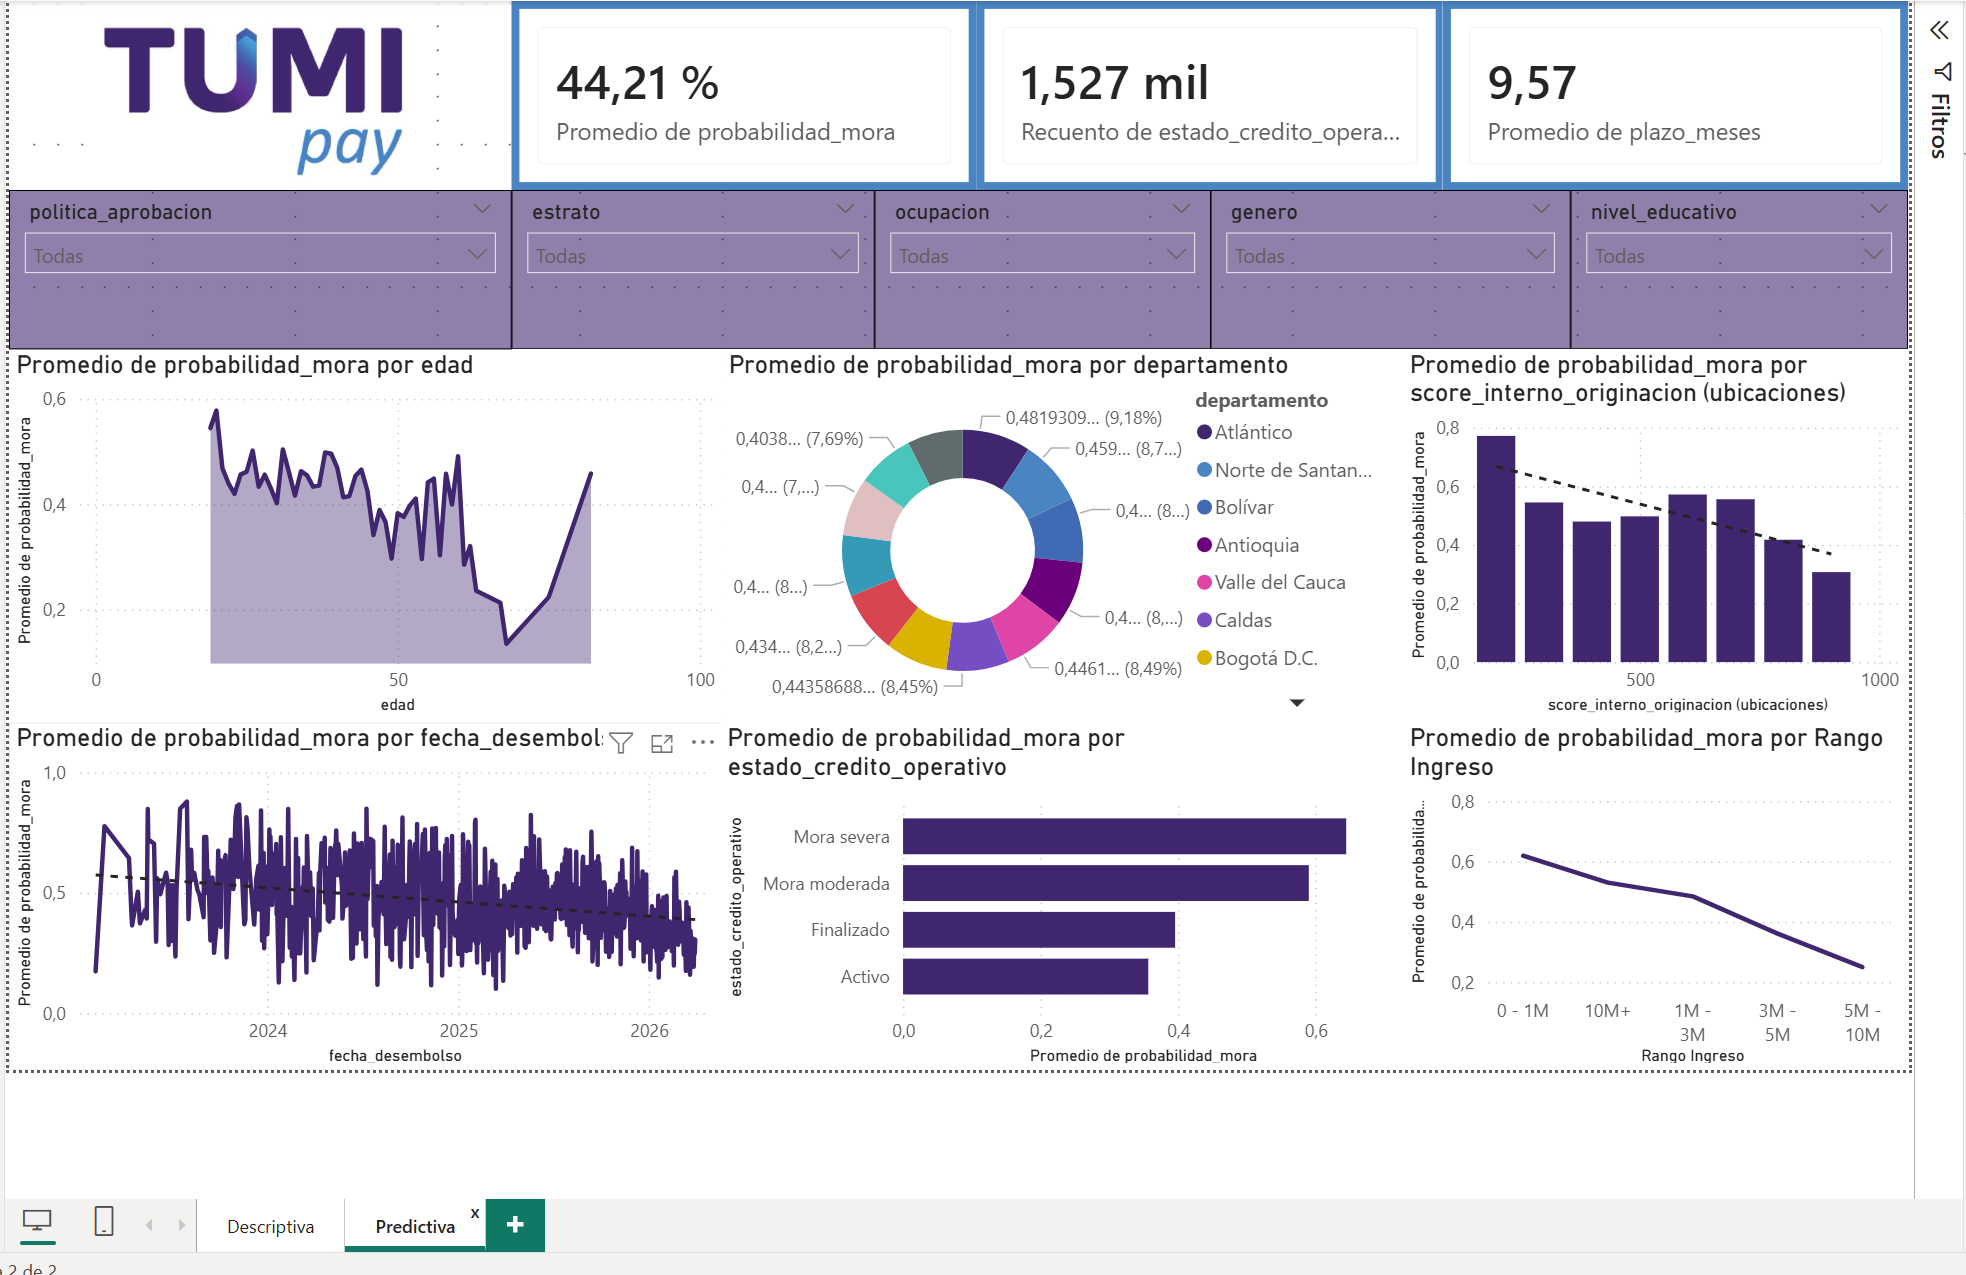

Layout of this report page (visuals, bound fields, positions):
{"tool":"powerbi","page":{"name":"Predictiva","canvas":[1280,720],"ordinal":1},"visuals":[{"type":"image","box":[0,0,338.5,127.3],"z":0},{"type":"cardVisual","fields":{"Data":["CountNonNull(predicciones_riesgo.estado_credito_operativo)"]},"box":[651.8,0,314.3,127.3],"z":1000},{"type":"cardVisual","fields":{"Data":["Avg(predicciones_riesgo.probabilidad_mora)"]},"box":[338.5,0,313.3,127.3],"z":2000},{"type":"cardVisual","fields":{"Data":["Avg(predicciones_riesgo.plazo_meses)"]},"box":[966.1,0,313.3,127.3],"z":3000},{"type":"slicer","fields":{"Values":["predicciones_riesgo.estrato"]},"box":[338.5,127.3,244.5,107.1],"z":4000},{"type":"slicer","fields":{"Values":["predicciones_riesgo.ocupacion"]},"box":[583.1,127.3,226.4,107.1],"z":5000},{"type":"slicer","fields":{"Values":["predicciones_riesgo.genero"]},"box":[809.4,127.3,242.5,107.1],"z":6000},{"type":"slicer","fields":{"Values":["predicciones_riesgo.nivel_educativo"]},"box":[1052,127.3,227.4,107.1],"z":7000},{"type":"stackedAreaChart","fields":{"Category":["predicciones_riesgo.edad"],"Y":["Avg(predicciones_riesgo.probabilidad_mora)"]},"box":[0,234.4,480,249.6],"z":8000},{"type":"donutChart","fields":{"Category":["predicciones_riesgo.departamento"],"Y":["Avg(predicciones_riesgo.probabilidad_mora)"]},"box":[480,234.6,459.2,251.4],"z":9000},{"type":"clusteredColumnChart","fields":{"Y":["Avg(predicciones_riesgo.probabilidad_mora)"],"Category":["predicciones_riesgo.score_interno_originacion (ubicaciones)"]},"box":[938.8,234.4,340.5,249.6],"z":10000},{"type":"clusteredColumnChart","fields":{"Y":["Avg(predicciones_riesgo.probabilidad_mora)"],"Category":["predicciones_riesgo.fecha_desembolso (ubicaciones)"]},"box":[0,486.1,480,234.4],"z":11000},{"type":"clusteredBarChart","fields":{"Category":["predicciones_riesgo.estado_credito_operativo"],"Y":["Avg(predicciones_riesgo.probabilidad_mora)"]},"box":[479,485.9,460.2,234.6],"z":12000},{"type":"columnChart","fields":{"Y":["Avg(predicciones_riesgo.probabilidad_mora)"],"Category":["predicciones_riesgo.Rango Ingreso"]},"box":[939.2,485.9,340.5,234.6],"z":13000},{"type":"slicer","fields":{"Values":["abt_analitica_riesgo.politica_aprobacion"]},"box":[0,127.3,338.5,107.1],"z":14000}]}

Visuals, with their boxes on the page's 1280x720 design canvas (x1, y1, x2, y2). These are canvas units, not pixel positions in the 1966x1275 screenshot, which may show the page scaled, cropped or inside an application window:
image: 0,0,338,127
cardVisual - CountNonNull(predicciones_riesgo.estado_credito_operativo): 652,0,966,127
cardVisual - Avg(predicciones_riesgo.probabilidad_mora): 338,0,652,127
cardVisual - Avg(predicciones_riesgo.plazo_meses): 966,0,1279,127
slicer - predicciones_riesgo.estrato: 338,127,583,234
slicer - predicciones_riesgo.ocupacion: 583,127,810,234
slicer - predicciones_riesgo.genero: 809,127,1052,234
slicer - predicciones_riesgo.nivel_educativo: 1052,127,1279,234
stackedAreaChart - predicciones_riesgo.edad x Avg(predicciones_riesgo.probabilidad_mora): 0,234,480,484
donutChart - predicciones_riesgo.departamento x Avg(predicciones_riesgo.probabilidad_mora): 480,235,939,486
clusteredColumnChart - Avg(predicciones_riesgo.probabilidad_mora) x predicciones_riesgo.score_interno_originacion (ubicaciones): 939,234,1279,484
clusteredColumnChart - Avg(predicciones_riesgo.probabilidad_mora) x predicciones_riesgo.fecha_desembolso (ubicaciones): 0,486,480,720
clusteredBarChart - predicciones_riesgo.estado_credito_operativo x Avg(predicciones_riesgo.probabilidad_mora): 479,486,939,720
columnChart - Avg(predicciones_riesgo.probabilidad_mora) x predicciones_riesgo.Rango Ingreso: 939,486,1280,720
slicer - abt_analitica_riesgo.politica_aprobacion: 0,127,338,234
